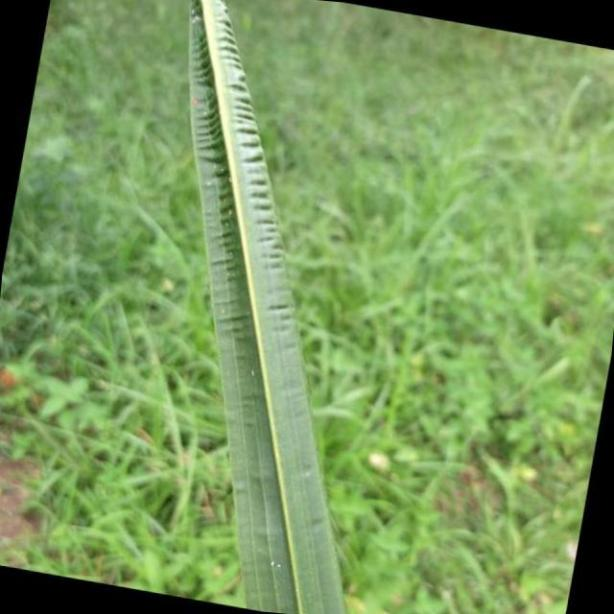Boron: (181, 0, 347, 614)
